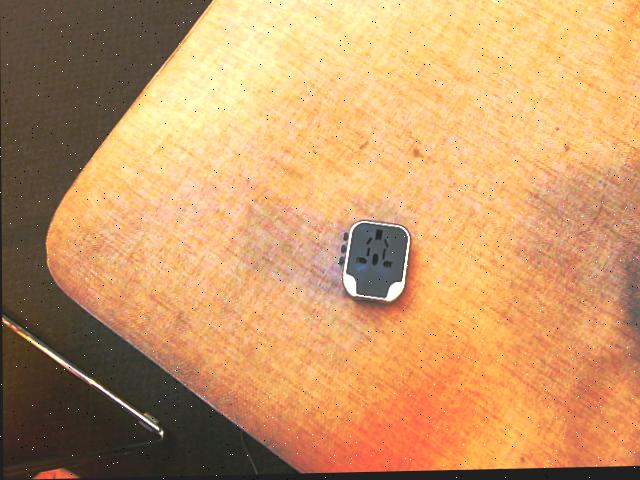adapter: (338, 219, 409, 306)
